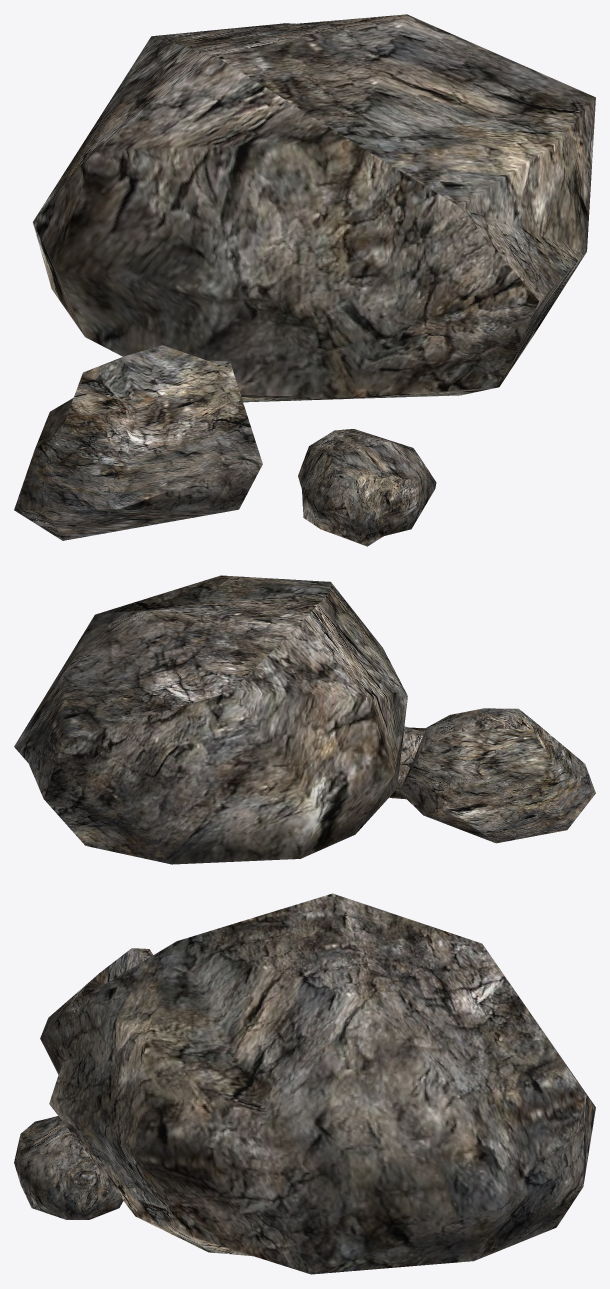
File: pir_m_prp_cav_rockGroup_i.fbx
The picture shows the model from 3 angles, top to bottom: view 1: azimuth 30°, elevation 25°; view 2: azimuth 150°, elevation 25°; view 3: azimuth 270°, elevation 25°; orthographic projection. The views are drawn at different scales.
Parts seen in each view (by area): view 1: rock_1, rock_2, rock_3; view 2: rock_1, rock_2, rock_3; view 3: rock_1, rock_3, rock_2.
Boxes of the visible parts, x1,y1,x2,y2 form: rock_1: (32, 14, 595, 402); rock_2: (14, 345, 262, 540); rock_3: (298, 429, 436, 546); rock_1: (14, 575, 407, 864); rock_2: (400, 708, 595, 843); rock_3: (389, 726, 426, 799); rock_1: (49, 893, 595, 1274); rock_3: (14, 1116, 123, 1219); rock_2: (40, 948, 153, 1074).
Size of the model in its own units: 586 by 315 by 523.
1 material, 1 textured.
